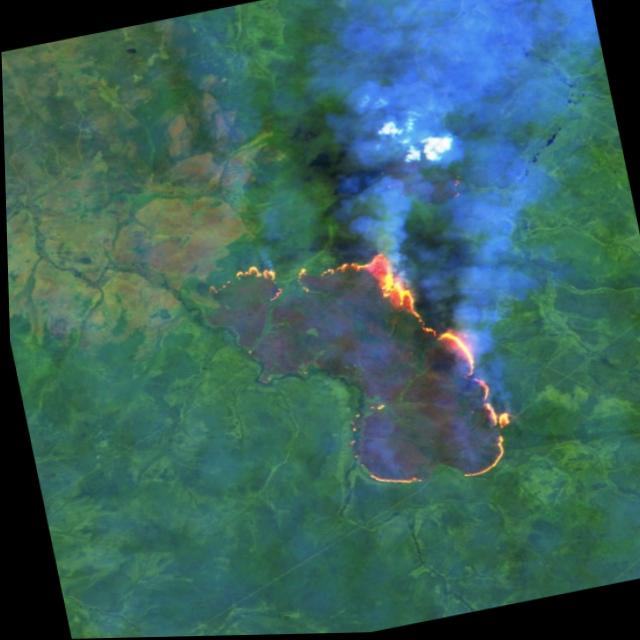fire: (222, 211, 521, 521)
